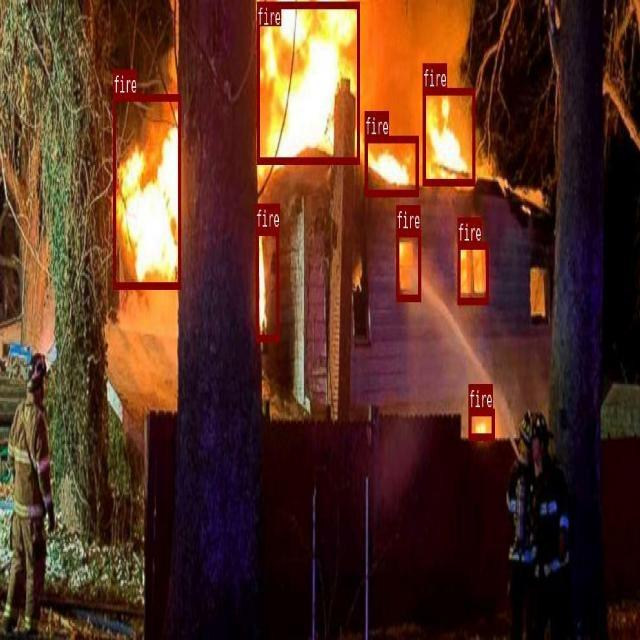fire: (257, 1, 359, 162), (113, 93, 181, 287), (422, 88, 475, 185), (364, 136, 418, 195), (255, 227, 278, 340), (458, 241, 489, 302), (396, 230, 420, 300), (469, 408, 495, 439)
